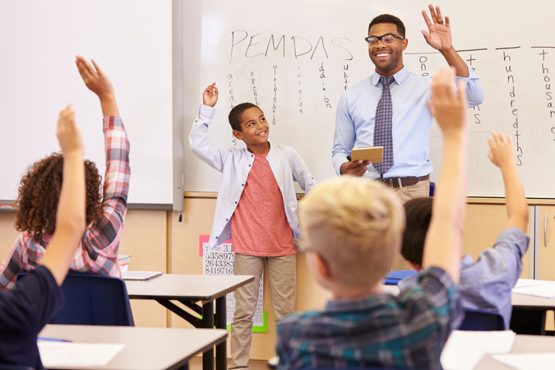Person: (292, 169, 452, 370), (330, 14, 479, 208), (190, 88, 296, 348), (26, 131, 128, 323)
